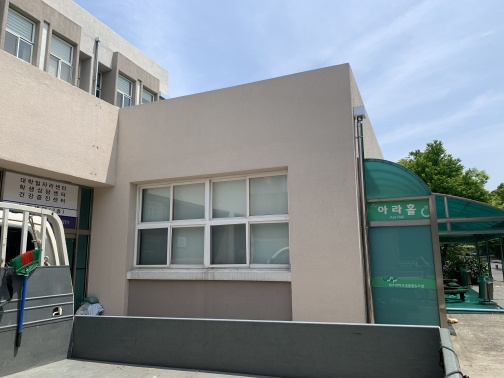Ara Hall: (124, 105, 448, 326)
